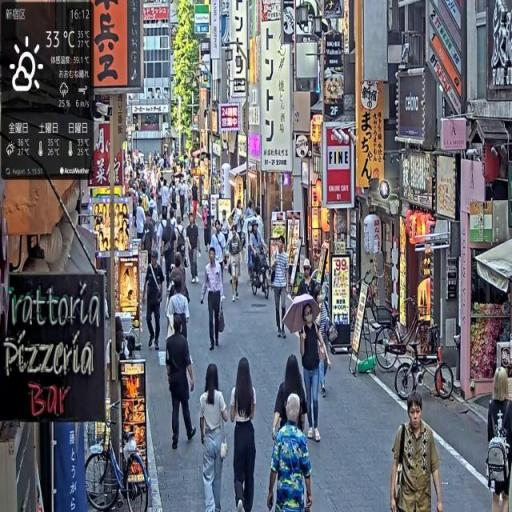person: (389, 393, 444, 512), (269, 395, 315, 512), (200, 363, 231, 512), (230, 356, 259, 512), (300, 304, 330, 448), (166, 314, 197, 452), (486, 364, 512, 512), (272, 355, 310, 445), (201, 248, 227, 352), (144, 248, 167, 355), (271, 238, 291, 340), (228, 224, 245, 305), (162, 216, 178, 293), (187, 213, 202, 284)
